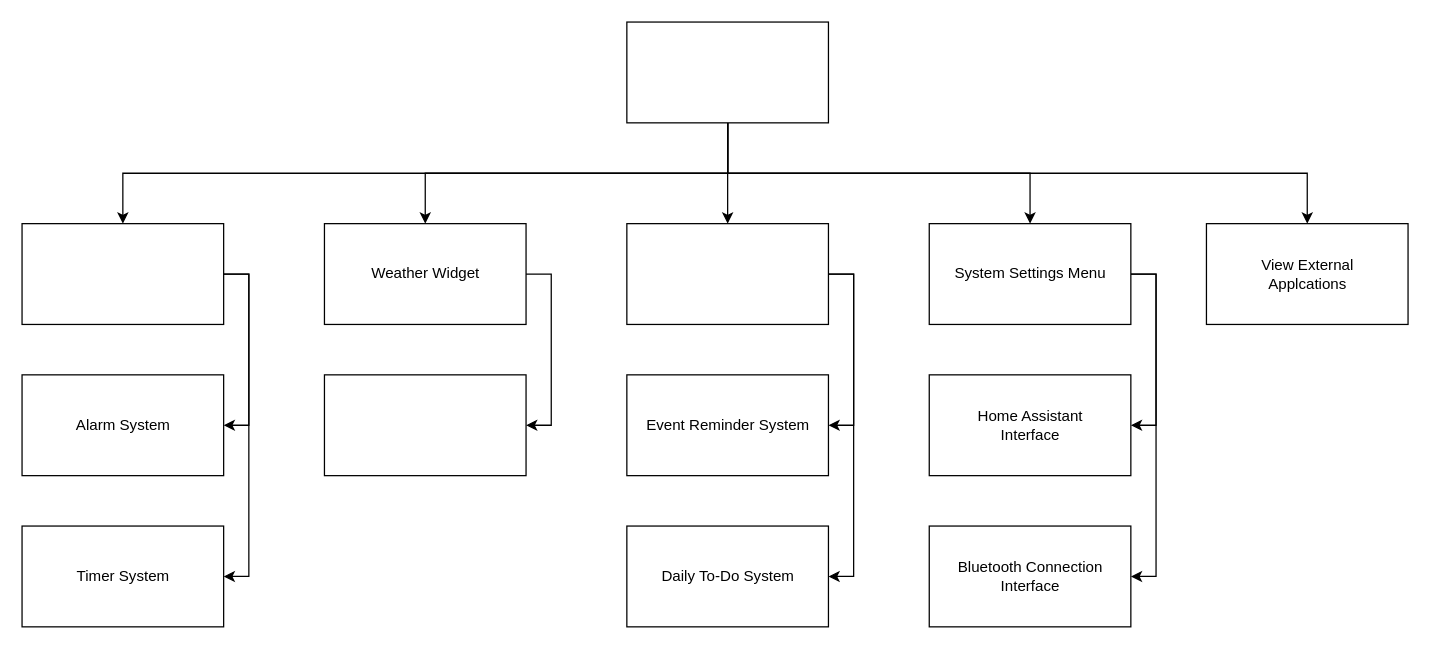
The diagram is 1430 pixels wide and 649 high, and some of its shapes have lost their labels. Each missing label, with the box of its shape:
Calendar Widget: (626, 222, 828, 324)
Clock Widget: (21, 222, 224, 324)
Home Interface: (626, 21, 828, 123)
Weather System: (323, 374, 526, 476)
